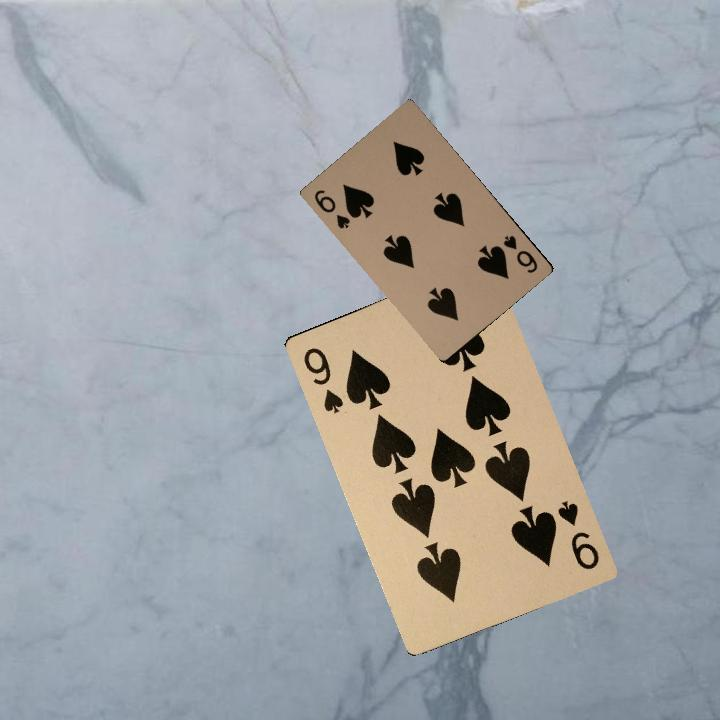6s: (310, 185, 353, 231), (499, 231, 540, 276)
9s: (553, 496, 602, 573), (299, 343, 346, 416)
